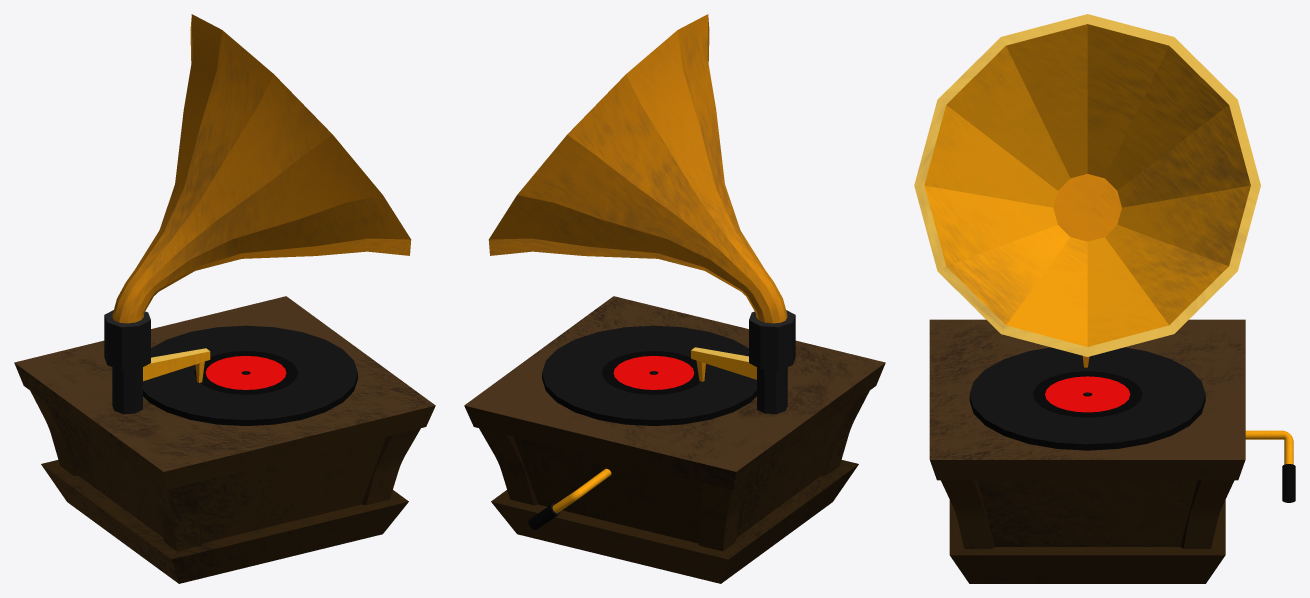
Rendered from 축음기.fbx.
3 renders of one model, left to right at view 1: azimuth 30°, elevation 25°; view 2: azimuth 150°, elevation 25°; view 3: azimuth 270°, elevation 25°, orthographic. The views are drawn at different scales.
Parts seen in each view (by area): view 1: 축음기; view 2: 축음기; view 3: 축음기.
Part boxes in pixels (x1,y1,x2,y2): 축음기: (14, 14, 435, 583); 축음기: (464, 14, 885, 583); 축음기: (914, 14, 1295, 583).
Bounding box in the file's own units: 409 × 657 × 440.
1 material, 1 textured.
